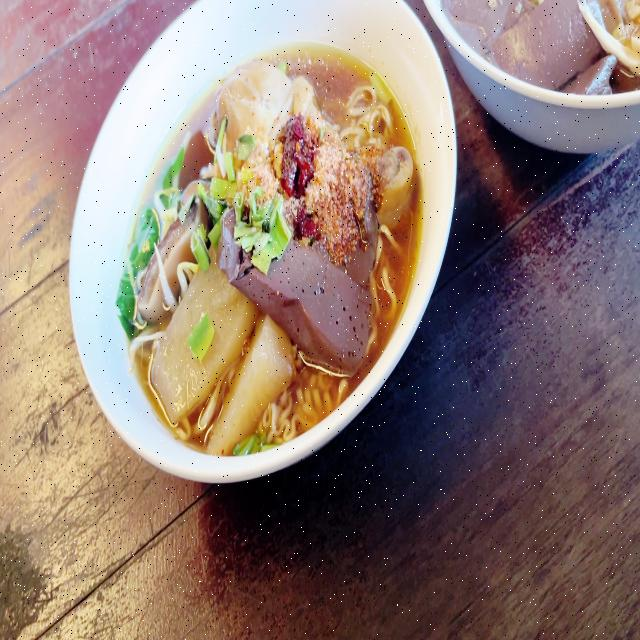boiled_chicken_blood_jelly: (438, 0, 612, 97), (279, 246, 376, 361)
chicken_drumstick: (210, 53, 411, 223)
chicken_shredded: (582, 0, 640, 68)
daikon_radish: (150, 272, 284, 433)
noodle: (111, 26, 432, 453), (426, 0, 640, 114)
